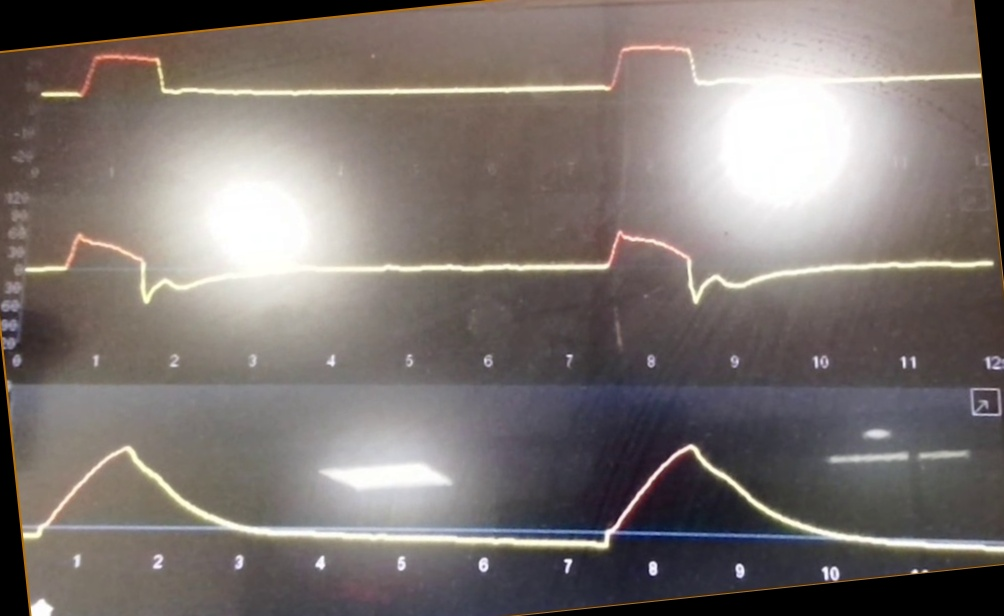Premature_cycling Flow: (28, 211, 991, 325)
Premature_cycling Volume: (24, 430, 991, 555)
